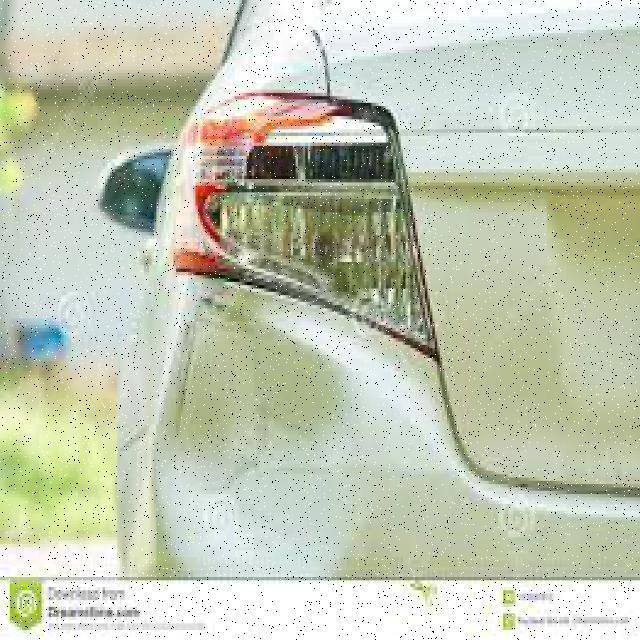rear-bumper-dent: (73, 275, 638, 584)
